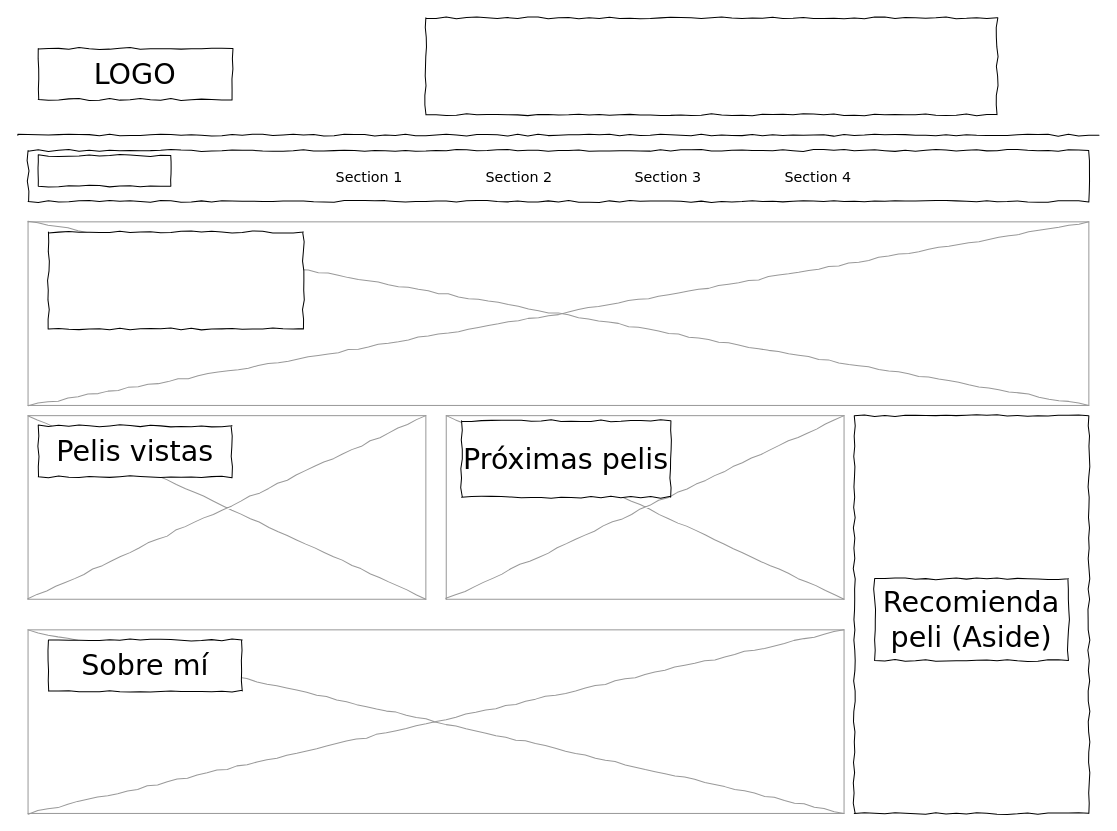
This 1117x831 diagram has some shape labels left out. The shapes that lost their labels are listed below. From the top down, each one's box as (x1, y1, x2, y2) in pixels, then its label:
(425, 17, 997, 115): Nombre pag
(37, 155, 171, 186): Navegador
(47, 231, 303, 329): Hero. Llamada atención
